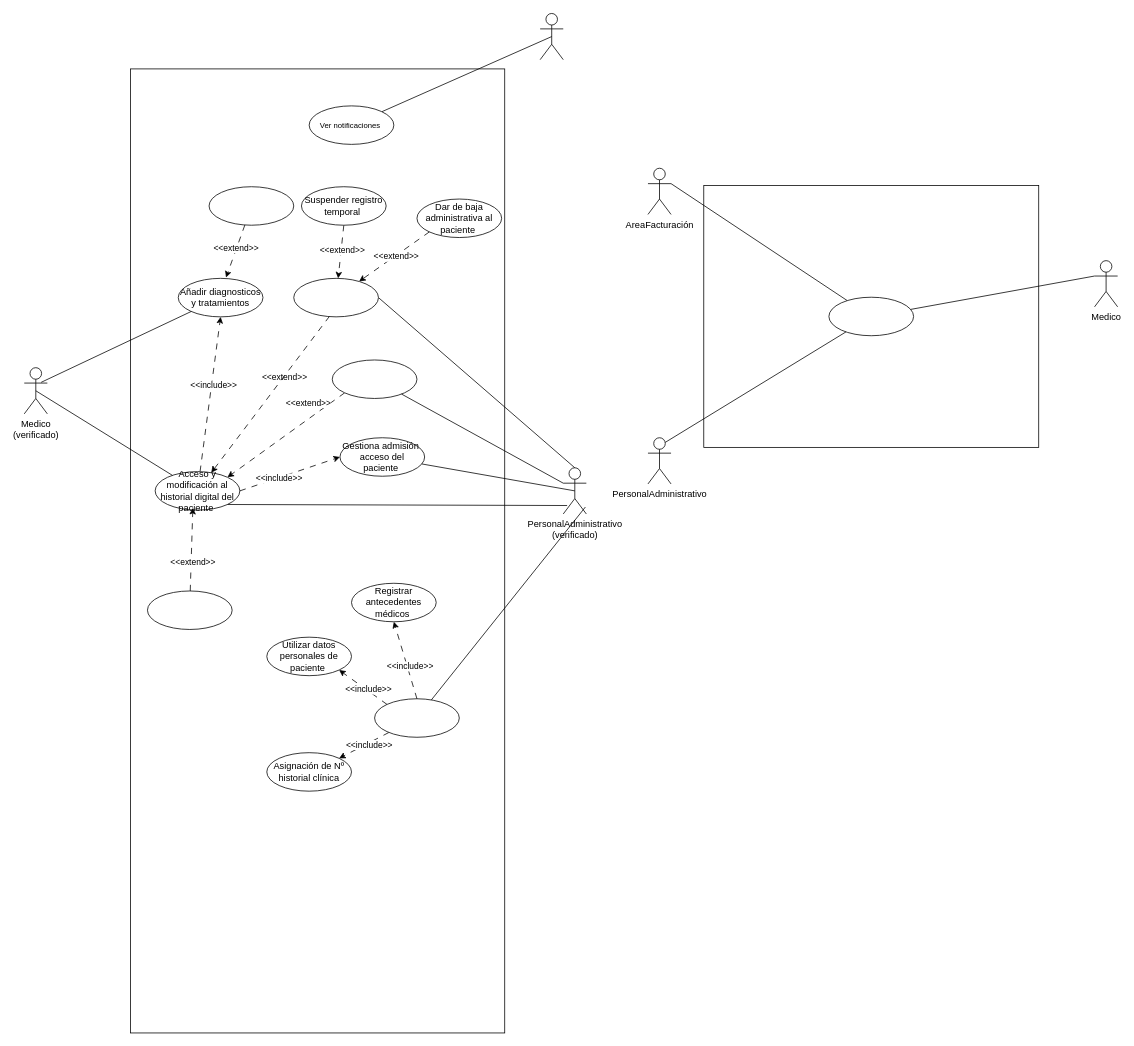
Image size: 1134x1046. Some labels were removed from this diagram. The shapes that lost their labels are listed below. From the top down, each one's centre as x and y in pixels, then its label:
At [551,36]: "AreaFacturación (verificado)".
At [251,205]: "Notifica si se requiere procedimientos de pago".
At [335,297]: "Cambio de médico o unidad".
At [871,316]: "Verificar usuario propio en el Sistema".
At [374,378]: "Modificar los datos personales de pacientes".
At [189,609]: "Sugerir historial automáticamente".
At [416,717]: "registro de pacientes".
